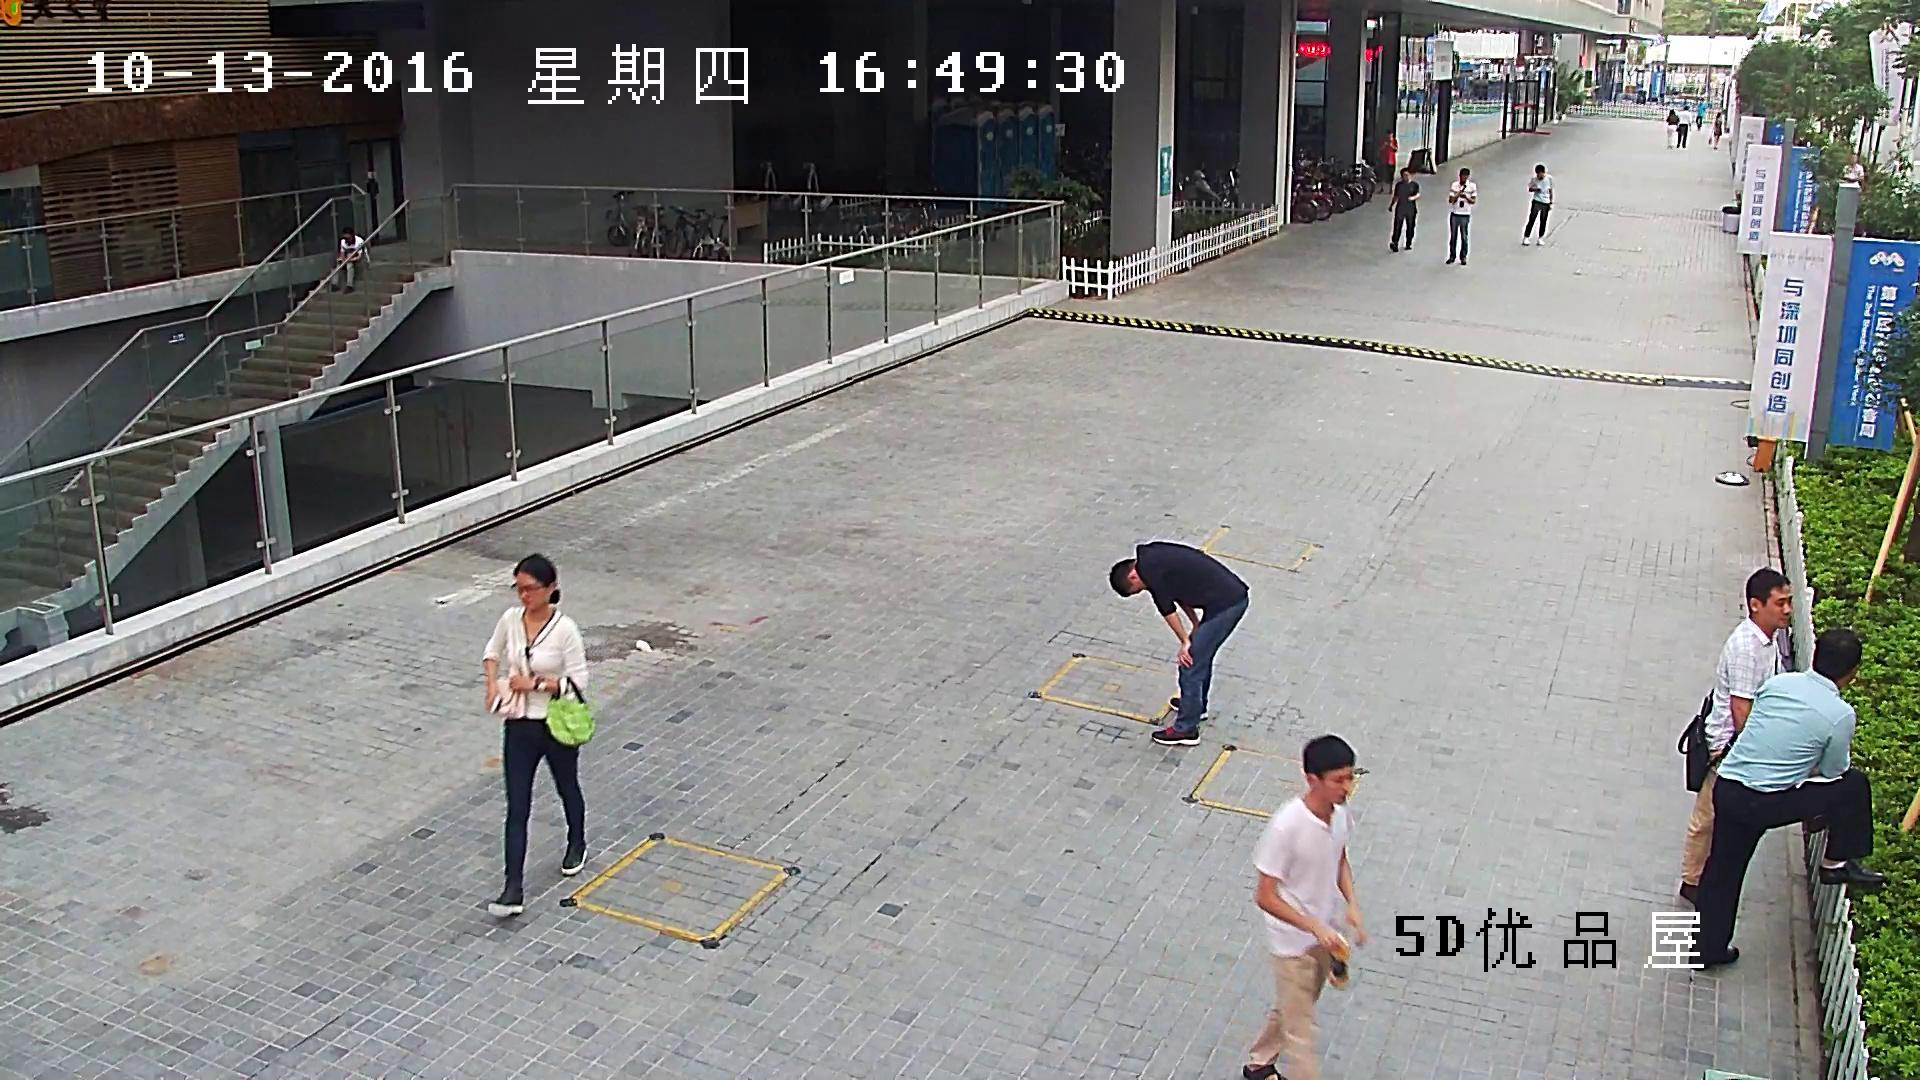person: (1687, 627, 1889, 972), (1241, 733, 1370, 1080), (480, 551, 595, 919), (1677, 566, 1795, 909), (1107, 540, 1249, 746), (1444, 167, 1477, 266), (1387, 167, 1421, 254), (329, 226, 370, 295), (1522, 164, 1553, 246), (1375, 129, 1398, 196), (1841, 154, 1864, 185), (1707, 112, 1722, 150), (1677, 105, 1691, 149), (1664, 109, 1679, 148), (1694, 98, 1707, 130)
